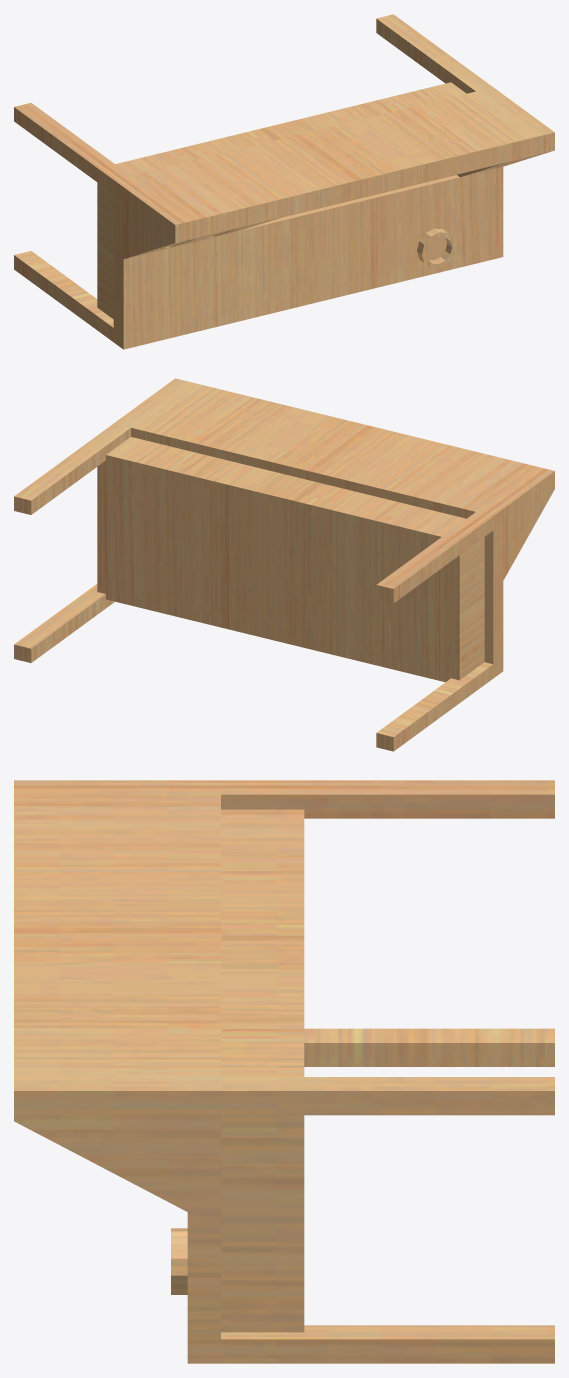
3 renders of one model, top to bottom at view 1: azimuth 30°, elevation 25°; view 2: azimuth 150°, elevation 25°; view 3: azimuth 270°, elevation 25°, orthographic. The views are drawn at different scales.
Visible parts, largest first — view 1: base_link_base_link.001; view 2: base_link_base_link.001; view 3: base_link_base_link.001.
Part boxes in pixels (bbox=[...]): base_link_base_link.001: bbox=[14, 14, 554, 349]; base_link_base_link.001: bbox=[14, 378, 554, 751]; base_link_base_link.001: bbox=[14, 780, 554, 1363].
Bounding box in the file's own units: 1.1 × 0.45 × 0.8098.
Materials: 1 (1 with a texture image).
